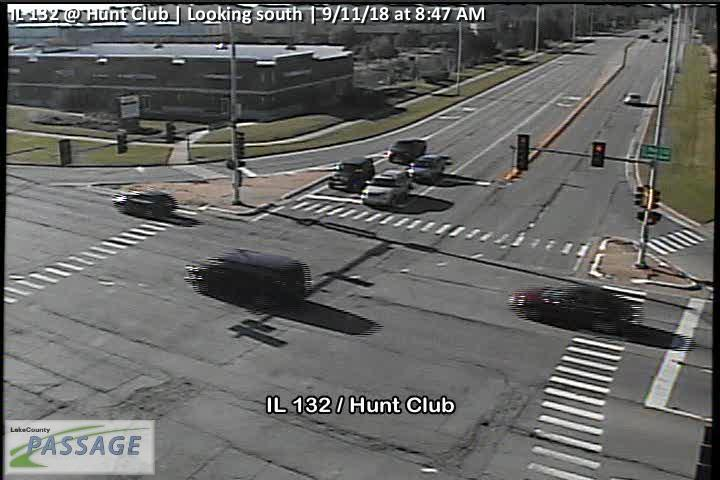SUV: (186, 249, 305, 312), (112, 187, 178, 220), (360, 169, 413, 208), (329, 155, 374, 193), (408, 155, 446, 185)
Sedan: (507, 284, 632, 331)
Truck: (388, 138, 427, 163)
